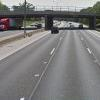Bridge: (4, 6, 95, 22)
